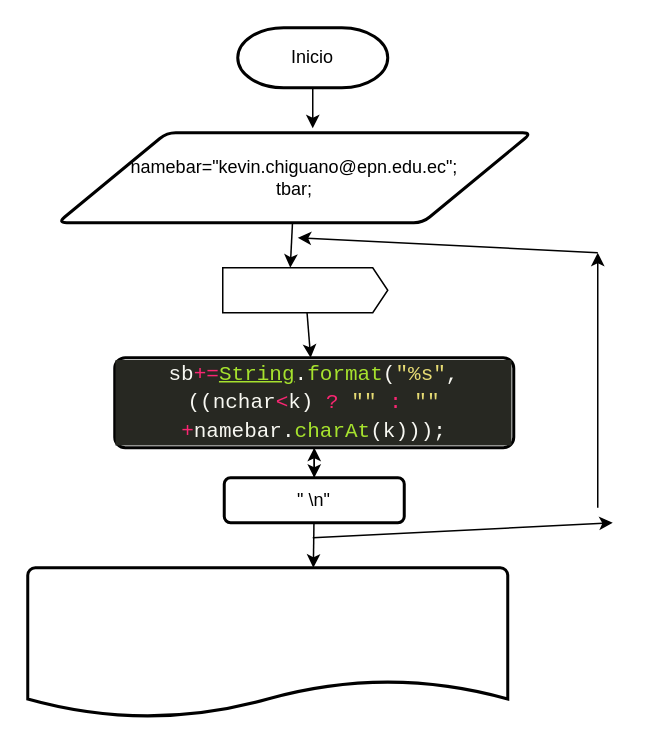
This 651x744 diagram has some shape labels left out. Here are the shapes that lost their labels. From the top down, the centre of each, then its label:
the point at 304,289: int k=0;k<=tbar;k++
the point at 267,642: System . out . write ( sb . getBytes ());
